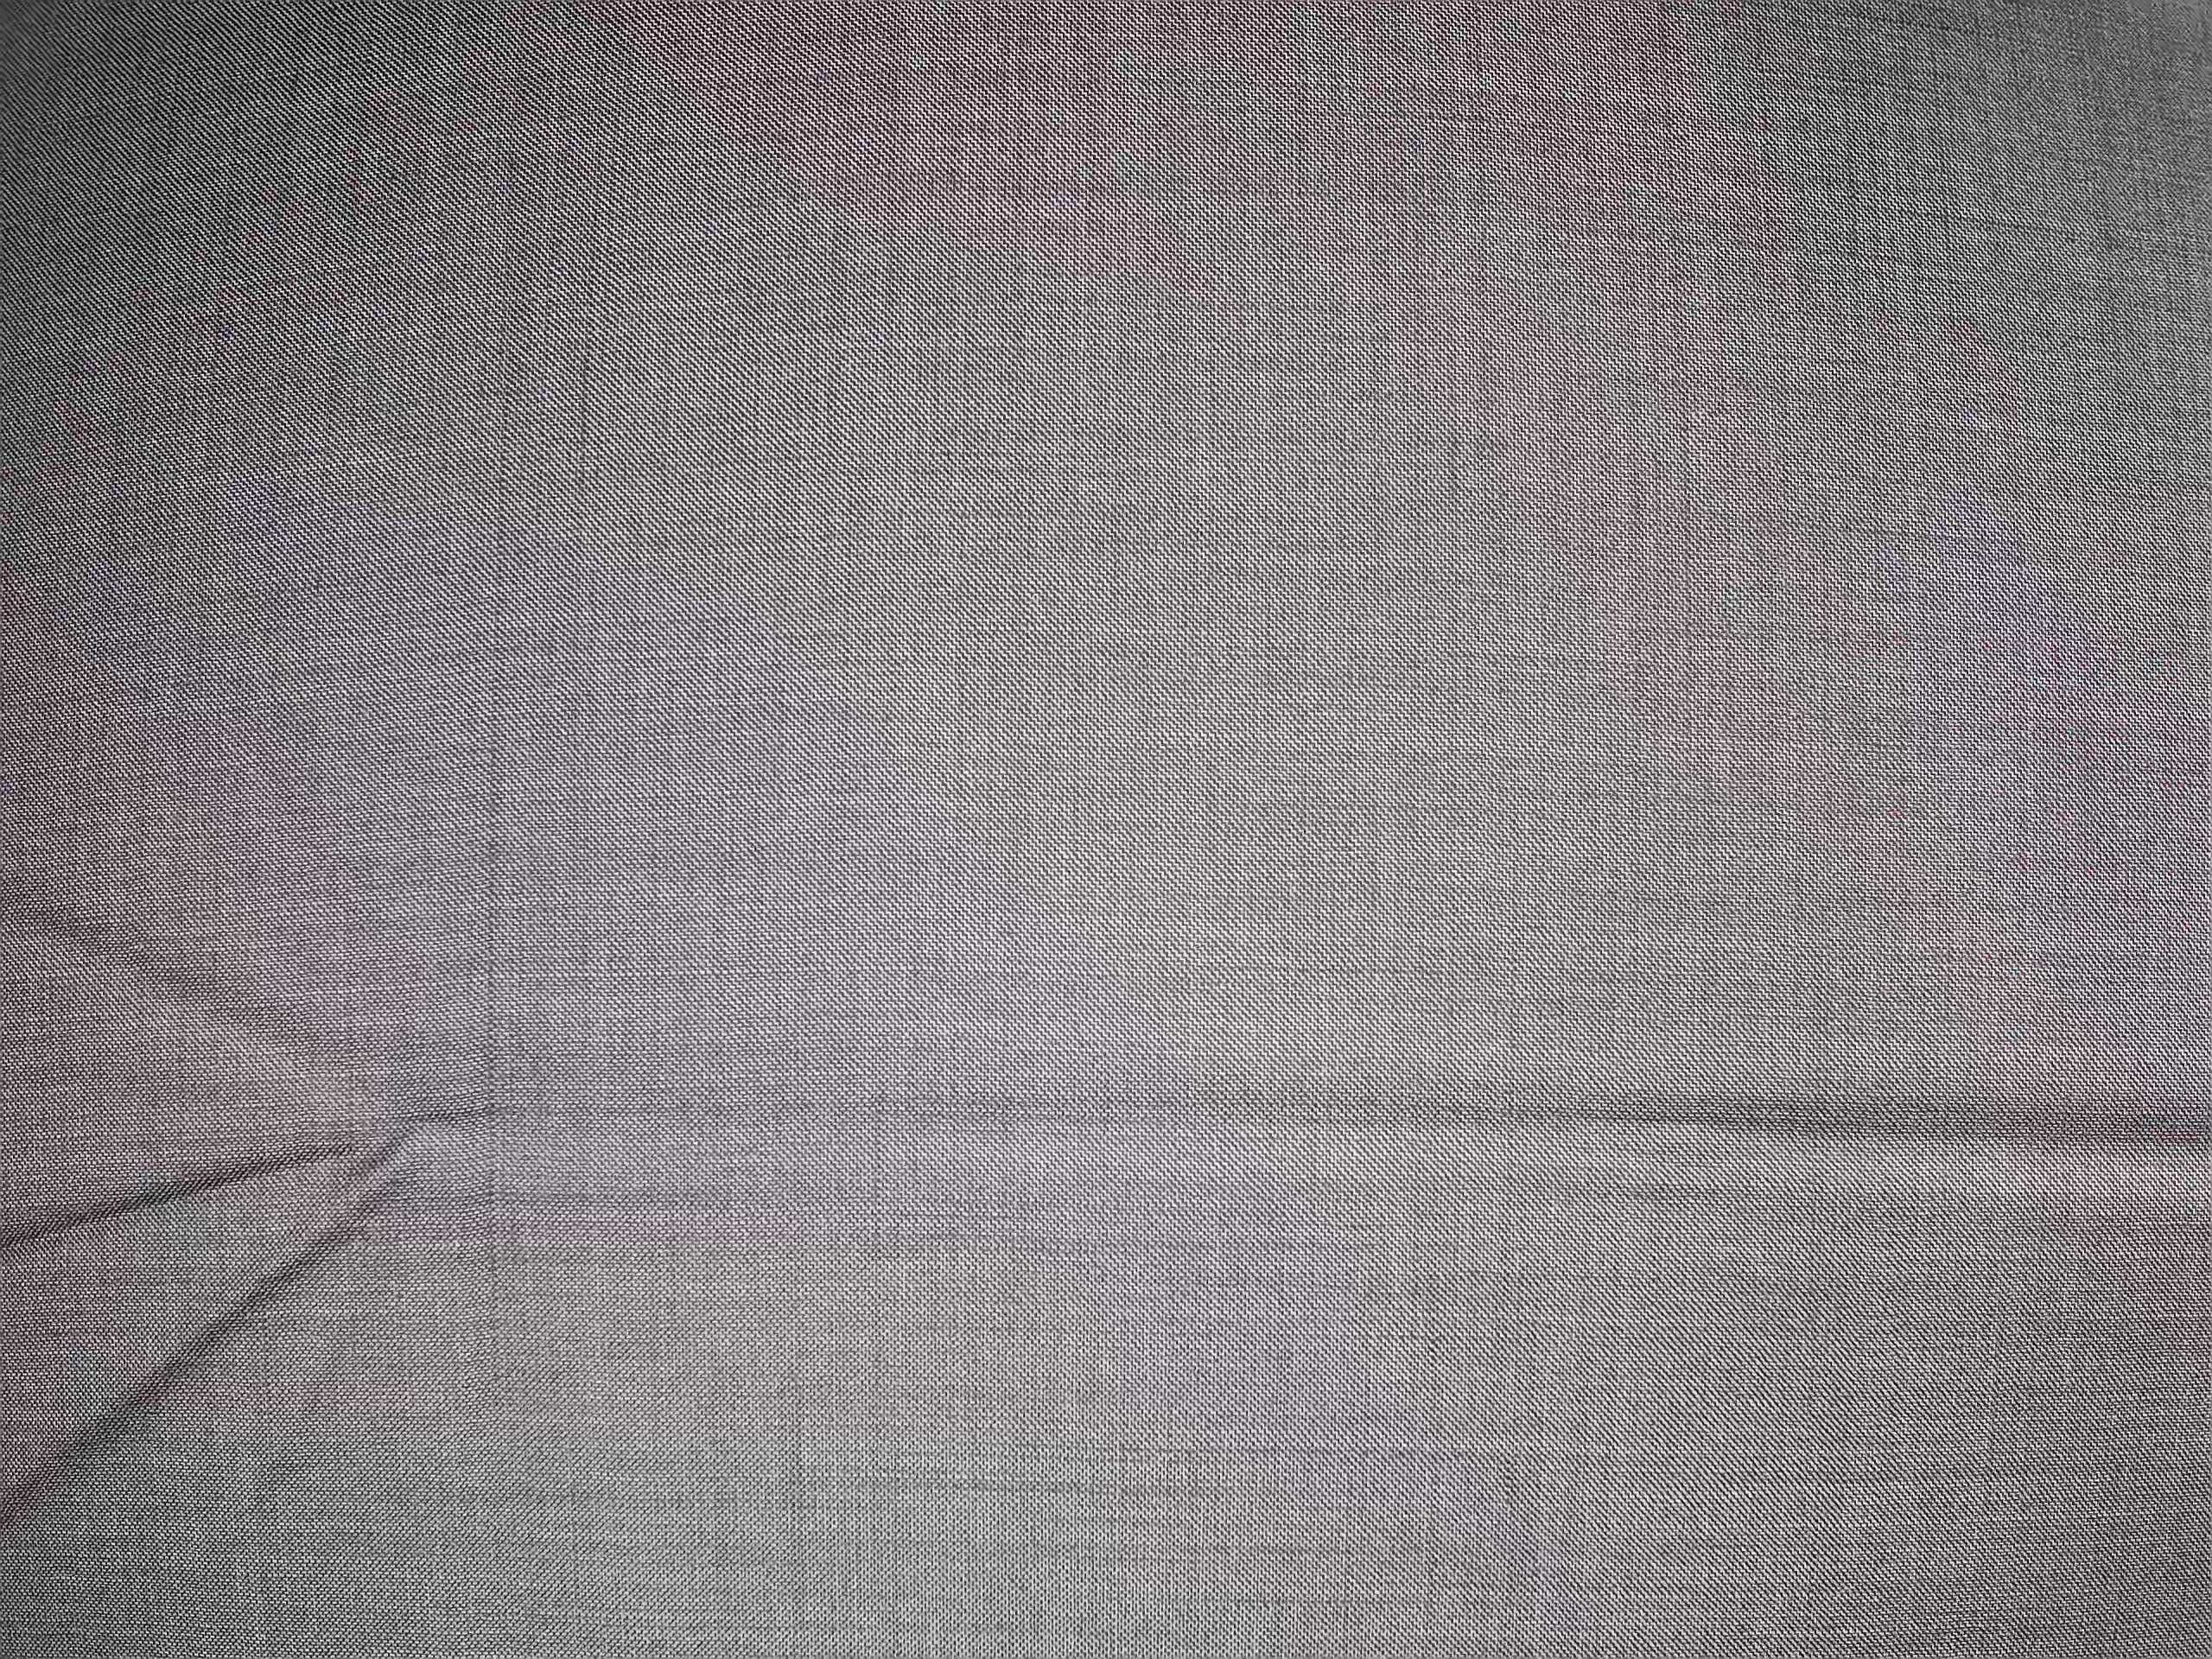hanging-warp: (469, 394, 521, 1392)
